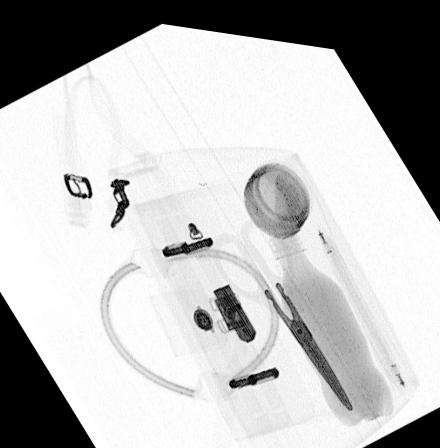Scissors: (205, 205, 356, 402)
